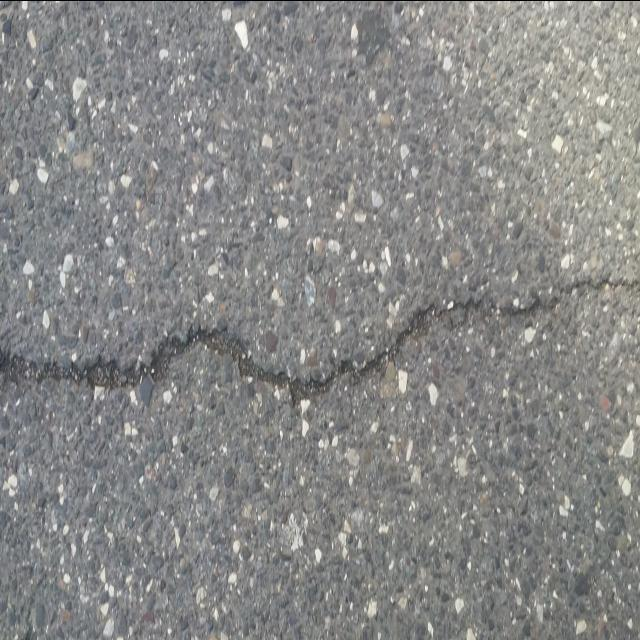Crack: (0, 274, 640, 406)
